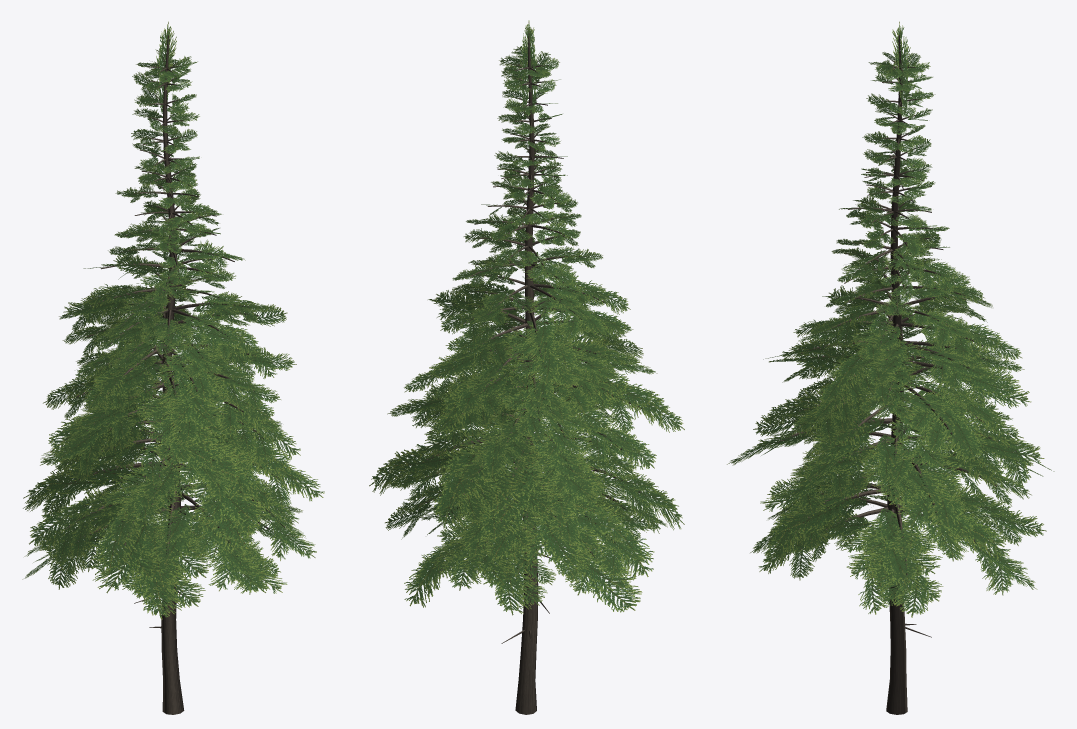
Rendered from near.glb.
3 views of the same model, side by side, from view 1: azimuth 30°, elevation 25°; view 2: azimuth 150°, elevation 25°; view 3: azimuth 270°, elevation 25° (orthographic).
Parts seen in each view (by area): view 1: spruce_03; view 2: spruce_03; view 3: spruce_03.
Part boxes in pixels (x1,y1,x2,y2): spruce_03: (22,21,324,714); spruce_03: (369,20,684,714); spruce_03: (727,21,1054,714).
Size of the model in its own units: 6.11 by 13.98 by 6.24.
2 materials, 2 textured.
